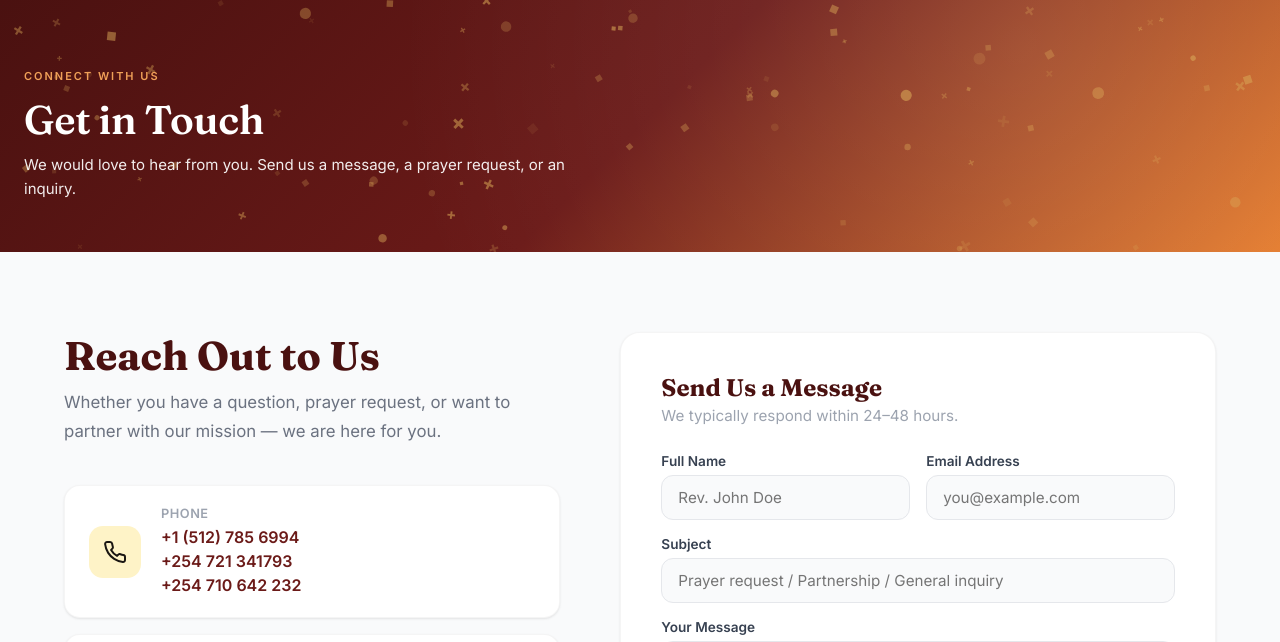
Test case: ContactPage › shows submitting state on button
Step 1. Type "John Doe" into the field labelled "Full Name" → (786, 498), box 661,475 -> 910,520
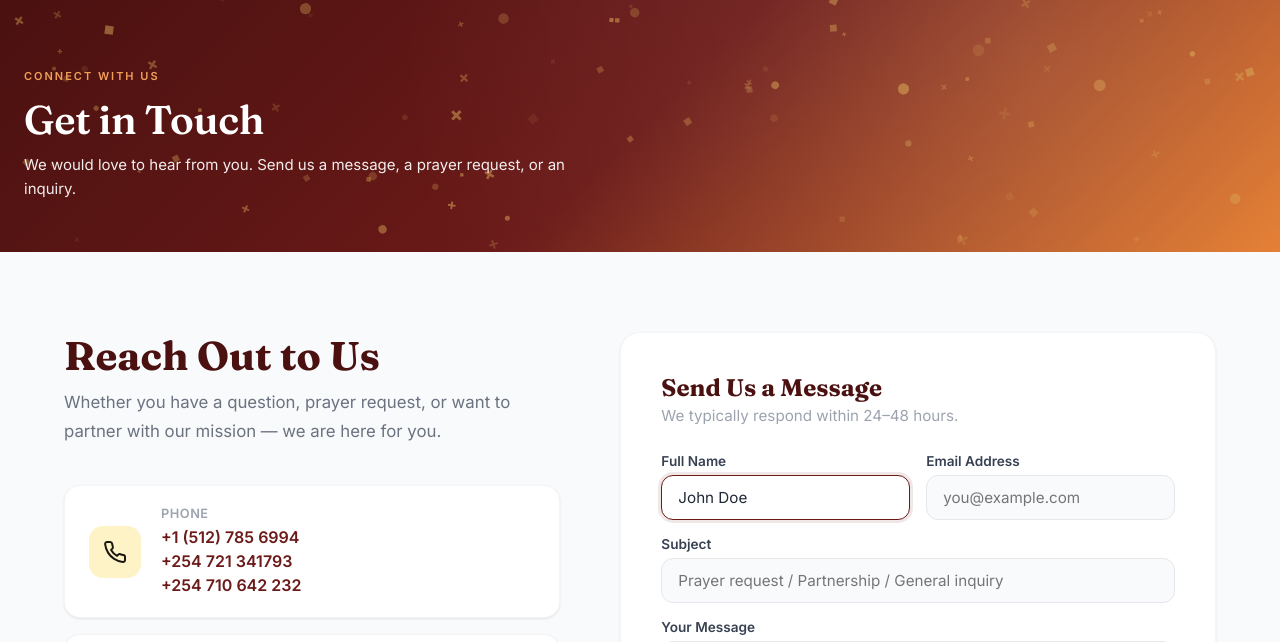
Step 2. Type "john@example.com" into the field labelled "Email Address" → (1051, 498), box 926,475 -> 1175,520
(page scrolled)
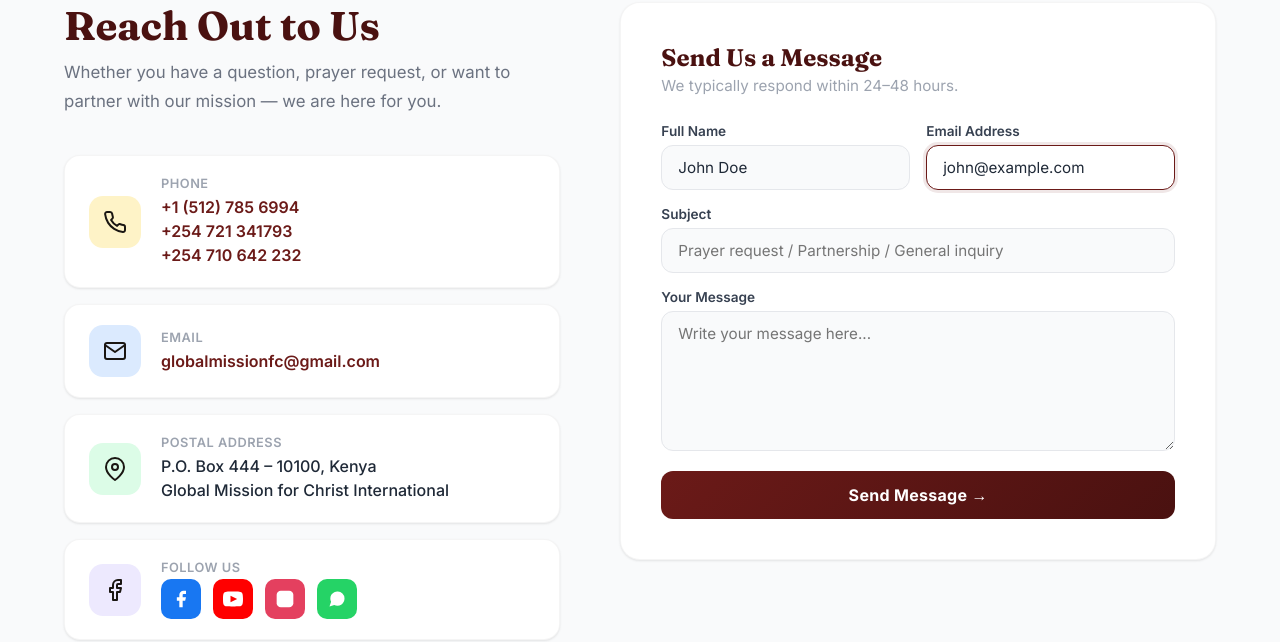
Step 3. Type "Hello world" into the text box labelled "Your Message" → (918, 381), box 661,311 -> 1175,451
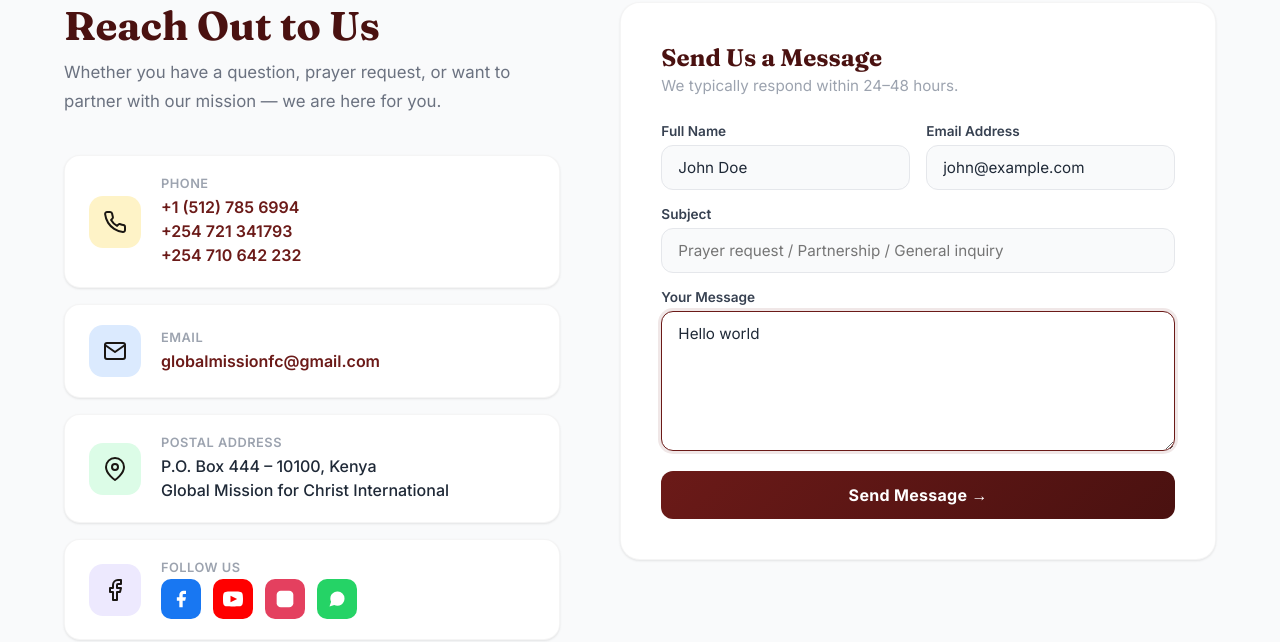
Step 4. Click the button "Send Message →" → (918, 495), box 661,471 -> 1175,519
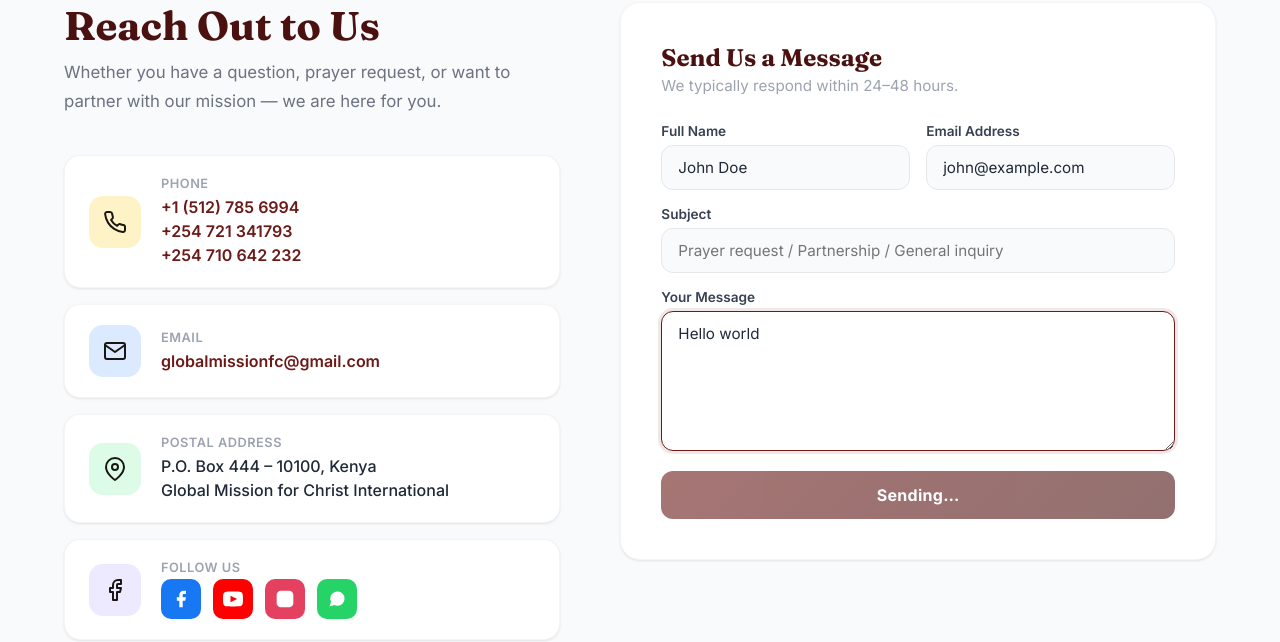
Expected: the button is disabled, 661,471 -> 1175,519
